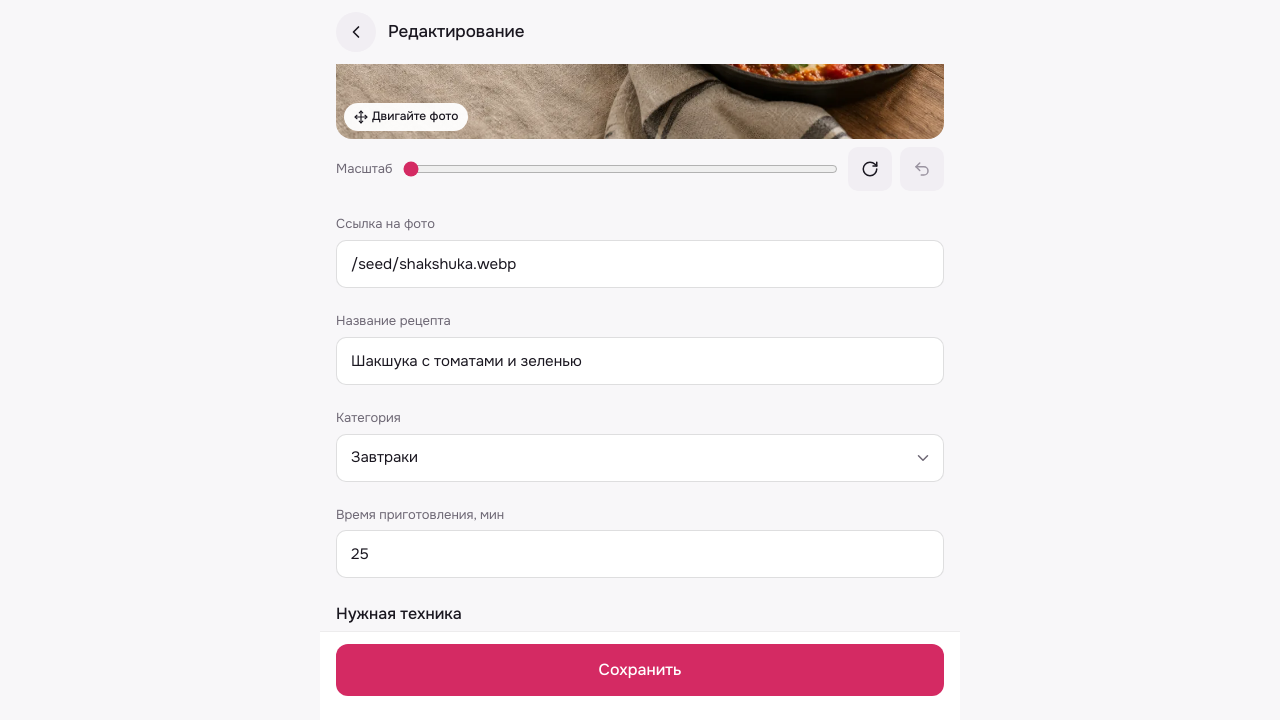
Scenario: CRUD рецепта › редактирование своего рецепта: форма заполнена, изменения сохраняются
The width and height of the screenshot is (1280, 720).
(page scrolled)
Replace the text in the field labelled "Название рецепта" with "Шакшука по-домашнему": {"x": 640, "y": 361} [336,337,944,385]
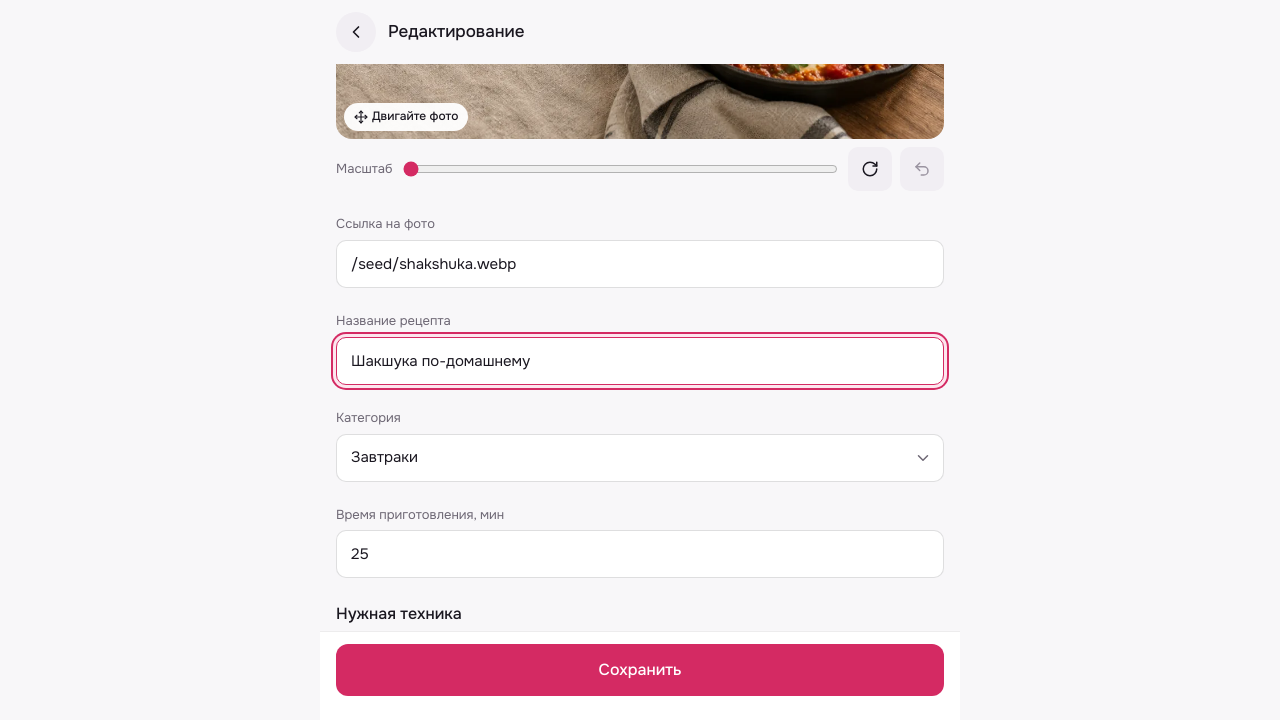
Click the button "Сохранить": {"x": 640, "y": 670} [336,644,944,696]
(page scrolled)
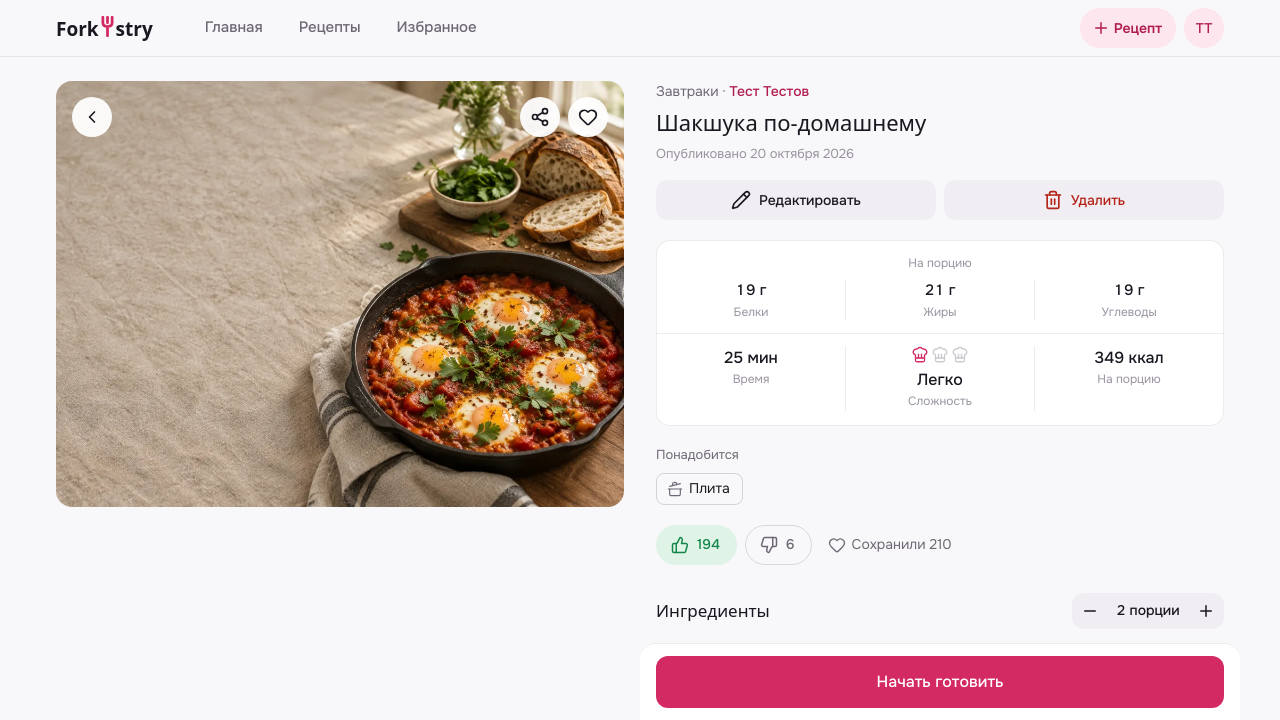
Now the heading "Шакшука по-домашнему" is shown, box [656,107,926,137]
